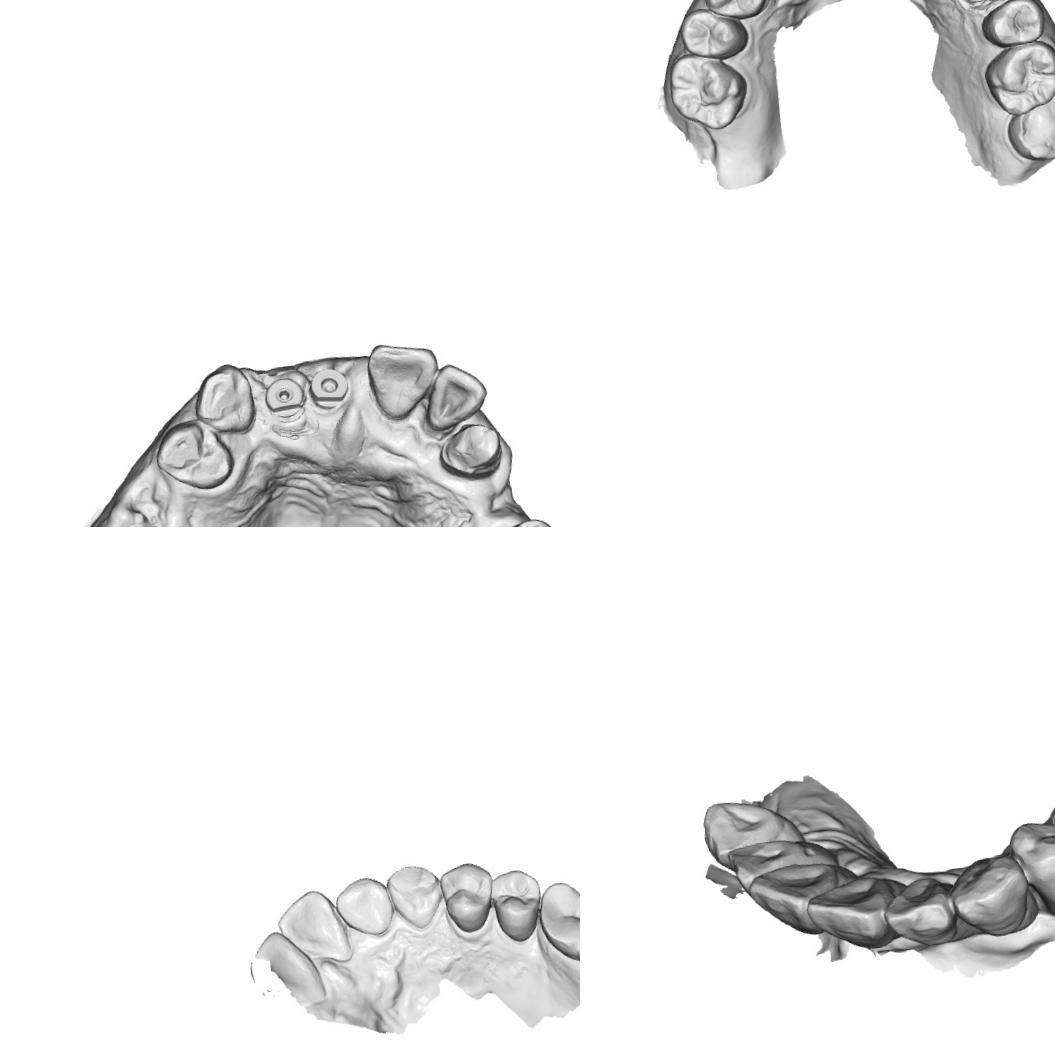canine: (944, 851, 1042, 942), (700, 793, 809, 855), (191, 360, 259, 438), (384, 862, 446, 932)
implant: (256, 376, 305, 423), (310, 366, 351, 412)
incisor: (744, 856, 865, 942), (802, 870, 914, 956), (879, 872, 980, 951), (724, 832, 842, 893), (274, 885, 355, 972), (362, 337, 445, 420), (419, 358, 492, 430), (330, 874, 396, 940)
molar: (664, 47, 752, 136), (979, 36, 1055, 119), (535, 875, 580, 969), (1002, 90, 1055, 166)
premolar: (152, 416, 238, 496), (1005, 815, 1055, 917), (486, 866, 546, 945), (675, 3, 752, 64), (437, 858, 498, 935), (977, 0, 1049, 52), (700, 0, 772, 24)
